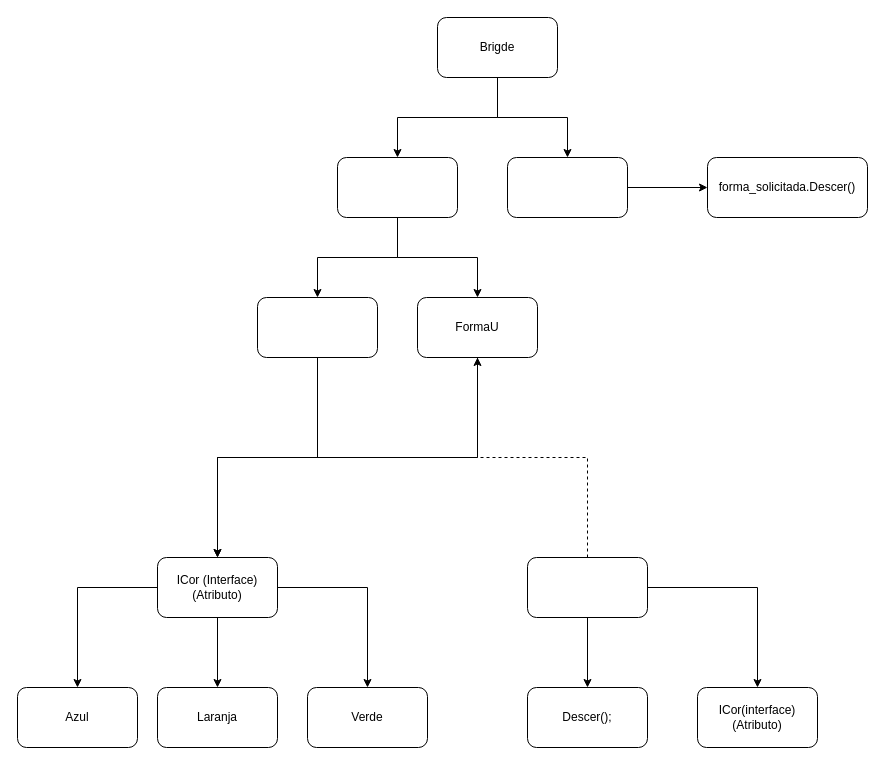
Image size: 885x765. Some labels were removed from this diagram. Here are the shapes that lost their labels. From the top down, the box of each, then its label:
(336, 156, 458, 218): IForma forma_solicitada;
(506, 156, 628, 218): ExibeFormaNaTela();
(256, 296, 378, 358): FormaT
(526, 556, 648, 618): IForma (Interface) (Implementa)
